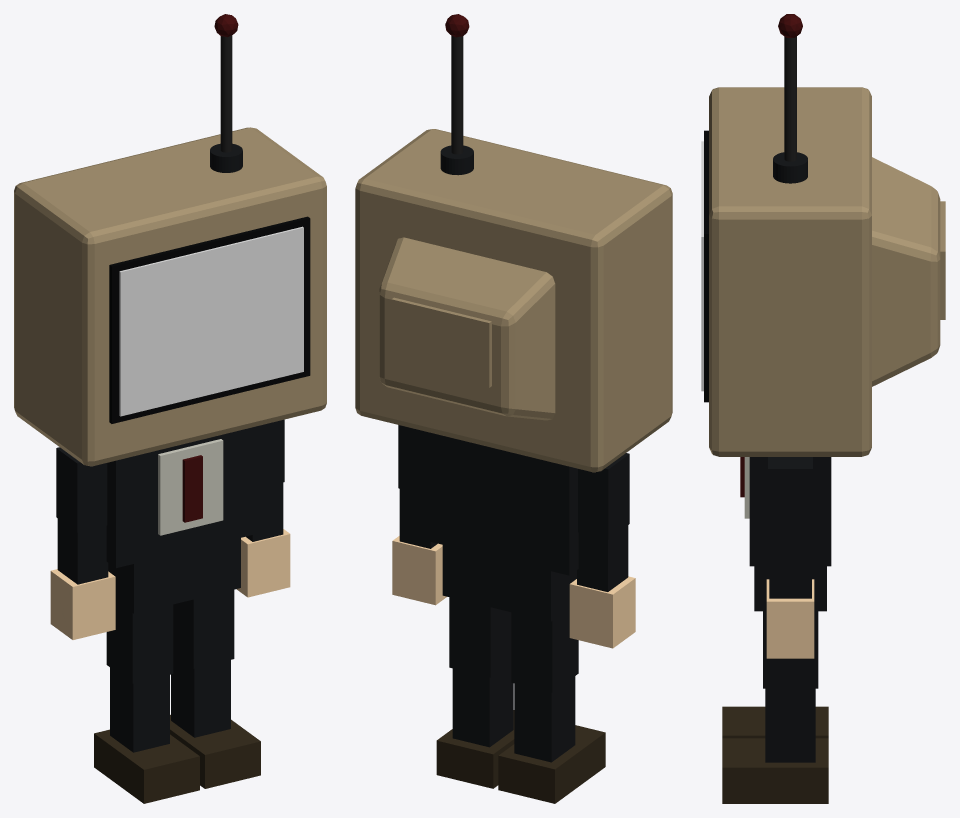
The model's file is Character1Suit.fbx.
3 renders of one model, left to right at view 1: azimuth 30°, elevation 25°; view 2: azimuth 150°, elevation 25°; view 3: azimuth 270°, elevation 25°, orthographic. The views are drawn at different scales.
Visible parts, largest first — view 1: CRT, Screen.001, Torso, Hips, Screen, Shoe_L, Thigh_L, Shirt, Shin_L, Thigh_R, Shin_R, Hand_L (+9 smaller); view 2: CRT, CRT_Back, Torso, CRT_BackVent, Hips, Shoe_L, Thigh_L, Shin_L, Shin_R, Thigh_R, Hand_L, UpperArm_L (+6 smaller); view 3: CRT, CRT_Back, Shoe_R, Torso, UpperArm_R, Shin_R, Hand_R, Forearm_R, Thigh_R, Shoe_L, Screen, Hips (+7 smaller).
Part boxes in pixels (bbox=[...]): CRT: bbox=[14, 127, 326, 466]; Screen.001: bbox=[119, 226, 303, 416]; Torso: bbox=[106, 425, 263, 568]; Hips: bbox=[108, 538, 240, 613]; Screen: bbox=[109, 216, 310, 423]; Shoe_L: bbox=[94, 729, 199, 803]; Thigh_L: bbox=[106, 601, 173, 683]; Shirt: bbox=[158, 439, 223, 535]; Shin_L: bbox=[110, 667, 169, 752]; Thigh_R: bbox=[173, 589, 234, 668]; Shin_R: bbox=[171, 654, 230, 737]; Hand_L: bbox=[50, 569, 115, 639]; CRT: bbox=[355, 129, 672, 472]; CRT_Back: bbox=[379, 237, 555, 420]; Torso: bbox=[420, 430, 578, 575]; CRT_BackVent: bbox=[391, 297, 491, 387]; Hips: bbox=[442, 545, 576, 621]; Shoe_L: bbox=[498, 725, 605, 803]; Thigh_L: bbox=[511, 608, 578, 692]; Shin_L: bbox=[514, 676, 575, 762]; Shin_R: bbox=[452, 663, 513, 747]; Thigh_R: bbox=[449, 597, 511, 677]; Hand_L: bbox=[569, 576, 635, 648]; UpperArm_L: bbox=[578, 453, 629, 539]; CRT: bbox=[709, 87, 871, 456]; CRT_Back: bbox=[872, 157, 940, 386]; Shoe_R: bbox=[722, 738, 828, 803]; Torso: bbox=[749, 457, 831, 566]; UpperArm_R: bbox=[768, 457, 812, 542]; Shin_R: bbox=[765, 688, 815, 762]; Hand_R: bbox=[766, 579, 814, 658]; Forearm_R: bbox=[769, 542, 811, 598]; Thigh_R: bbox=[763, 611, 818, 688]; Shoe_L: bbox=[722, 706, 828, 738]; Screen: bbox=[704, 130, 708, 402]; Hips: bbox=[754, 566, 826, 611].
Bounding box in the file's own units: 240 × 693 × 195.
